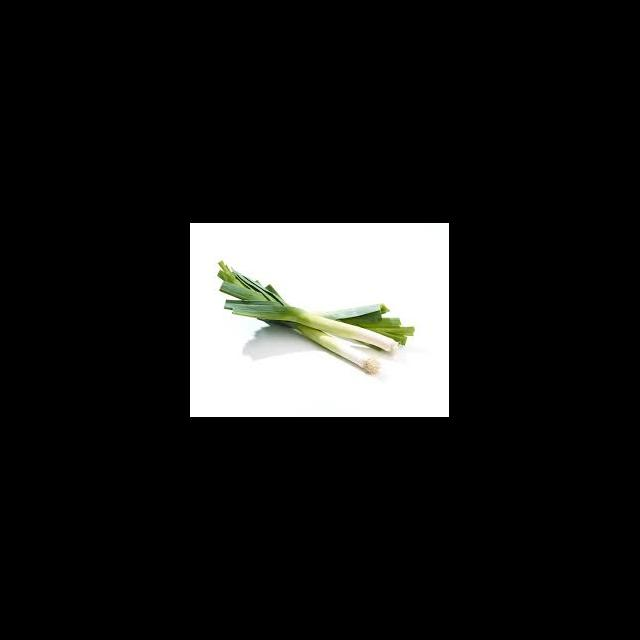green_onion: (215, 258, 412, 378)
